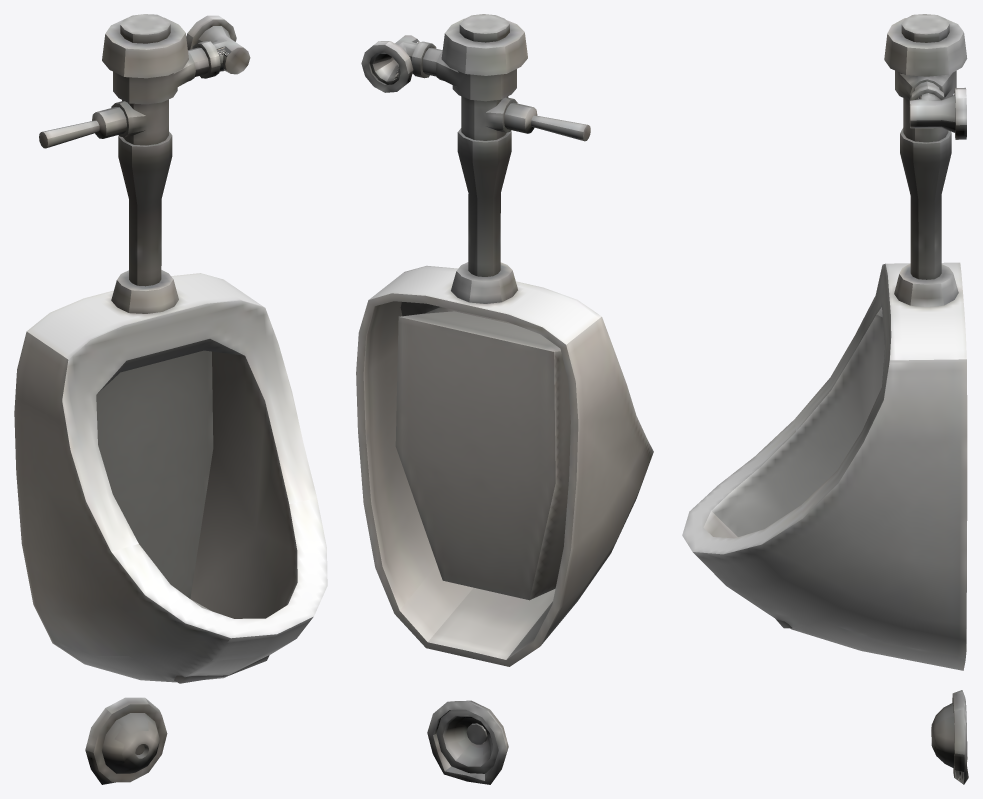
The model's file is urinal 1.fbx.
3 renders of one model, left to right at view 1: azimuth 30°, elevation 25°; view 2: azimuth 150°, elevation 25°; view 3: azimuth 270°, elevation 25°, orthographic. The views are drawn at different scales.
Parts seen in each view (by area): view 1: urinal.; view 2: urinal.; view 3: urinal..
Boxes of the visible parts, x1,y1,x2,y2 form: urinal.: [14, 14, 327, 784]; urinal.: [356, 14, 653, 784]; urinal.: [682, 14, 968, 784].
Size of the model in its own units: 0.2992 by 0.9615 by 0.3322.
